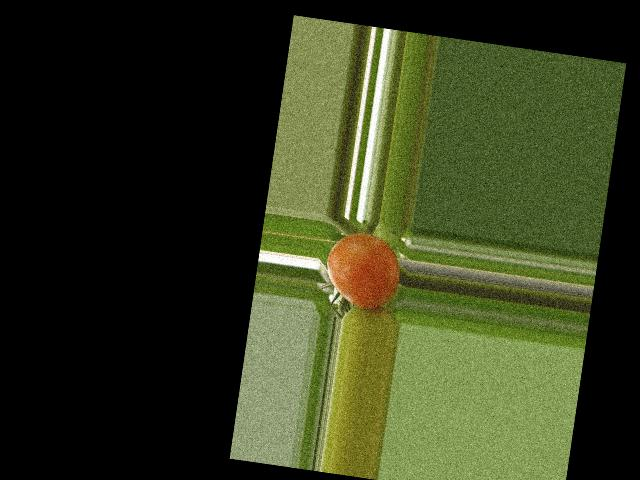tomato: (321, 228, 405, 313)
